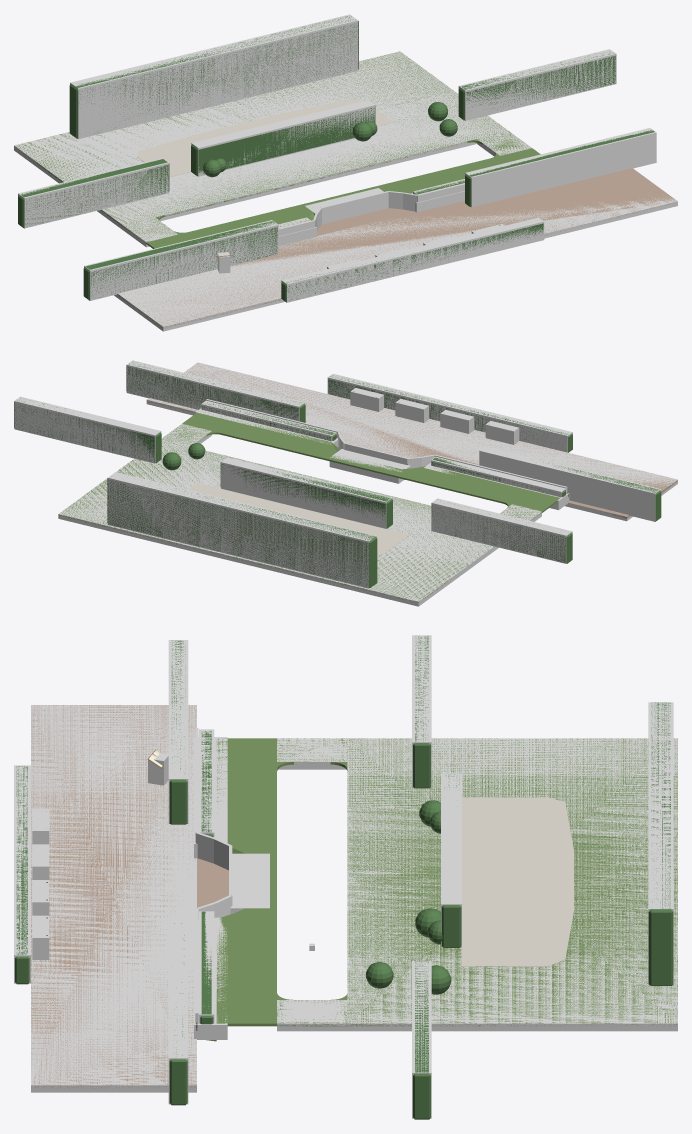
Rendered from KK_omgeving.fbx.
The picture shows the model from 3 angles, top to bottom: view 1: azimuth 30°, elevation 25°; view 2: azimuth 150°, elevation 25°; view 3: azimuth 270°, elevation 25°; orthographic projection. The views are drawn at different scales.
Visible parts, largest first — view 1: COLL_0, static__MAT_haag_0, COLL_7, static__MAT_klinker_0, COLL_20, static__MAT_gras_0, COLL_11, COLL_12, COLL_10, COLL_9, COLL_8, COLL_6 (+6 smaller); view 2: static__MAT_haag_0, COLL_7, COLL_0, static__MAT_gras_0, COLL_20, COLL_6, static__MAT_klinker_0, COLL_10, COLL_9, COLL_8, COLL_11, COLL_12 (+13 smaller); view 3: static__MAT_gras_0, COLL_0, COLL_20, static__MAT_klinker_0, static__MAT_tegels_0, static__MAT_haag_0, COLL_7, COLL_12, COLL_10, COLL_11, COLL_6, COLL_2 (+9 smaller).
Part boxes in pixels (<box>): COLL_0: <box>14,51,508,229</box>; static__MAT_haag_0: <box>18,16,654,302</box>; COLL_7: <box>70,14,358,138</box>; static__MAT_klinker_0: <box>117,168,676,328</box>; COLL_20: <box>114,194,677,331</box>; static__MAT_gras_0: <box>16,51,540,248</box>; COLL_11: <box>465,128,656,207</box>; COLL_12: <box>281,217,544,302</box>; COLL_10: <box>84,220,278,300</box>; COLL_9: <box>458,49,616,120</box>; COLL_8: <box>18,158,169,228</box>; COLL_6: <box>191,100,375,176</box>; static__MAT_haag_0: <box>14,361,661,587</box>; COLL_7: <box>107,472,376,588</box>; COLL_0: <box>58,440,498,606</box>; static__MAT_gras_0: <box>59,412,559,602</box>; COLL_20: <box>146,362,677,521</box>; COLL_6: <box>221,457,392,528</box>; static__MAT_klinker_0: <box>147,363,677,518</box>; COLL_10: <box>479,446,660,521</box>; COLL_9: <box>14,396,161,463</box>; COLL_8: <box>431,498,572,563</box>; COLL_11: <box>126,360,305,421</box>; COLL_12: <box>327,373,572,452</box>; static__MAT_gras_0: <box>206,738,677,1041</box>; COLL_0: <box>347,738,677,1031</box>; COLL_20: <box>31,705,196,1092</box>; static__MAT_klinker_0: <box>31,705,228,1088</box>; static__MAT_tegels_0: <box>461,797,573,966</box>; static__MAT_haag_0: <box>15,636,673,1119</box>; COLL_7: <box>648,702,673,985</box>; COLL_12: <box>14,765,30,983</box>; COLL_10: <box>168,640,188,823</box>; COLL_11: <box>168,921,188,1104</box>; COLL_6: <box>441,773,461,947</box>; COLL_2: <box>277,1000,347,1031</box>.
Bounding box in the file's own units: 37.84 × 5.7 × 23.6.
